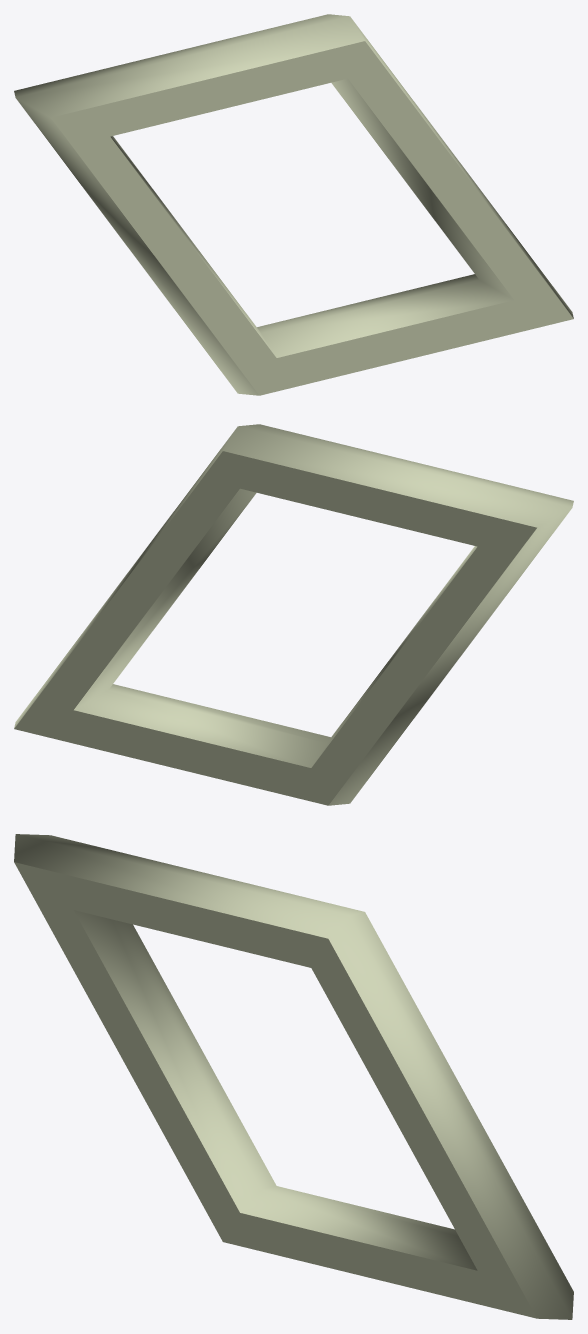
Rendered from Eraser.obj.
3 renders of one model, top to bottom at view 1: azimuth 30°, elevation 25°; view 2: azimuth 150°, elevation 25°; view 3: azimuth 330°, elevation 25°, orthographic.
Parts seen in each view (by area): view 1: Cube2; view 2: Cube2; view 3: Cube2.
Boxes of the visible parts, <box> form: Cube2: <box>14,14,573,395</box>; Cube2: <box>14,424,573,805</box>; Cube2: <box>14,834,573,1319</box>.
Size of the model in its own units: 0.5531 by 0.3323 by 0.0631.
